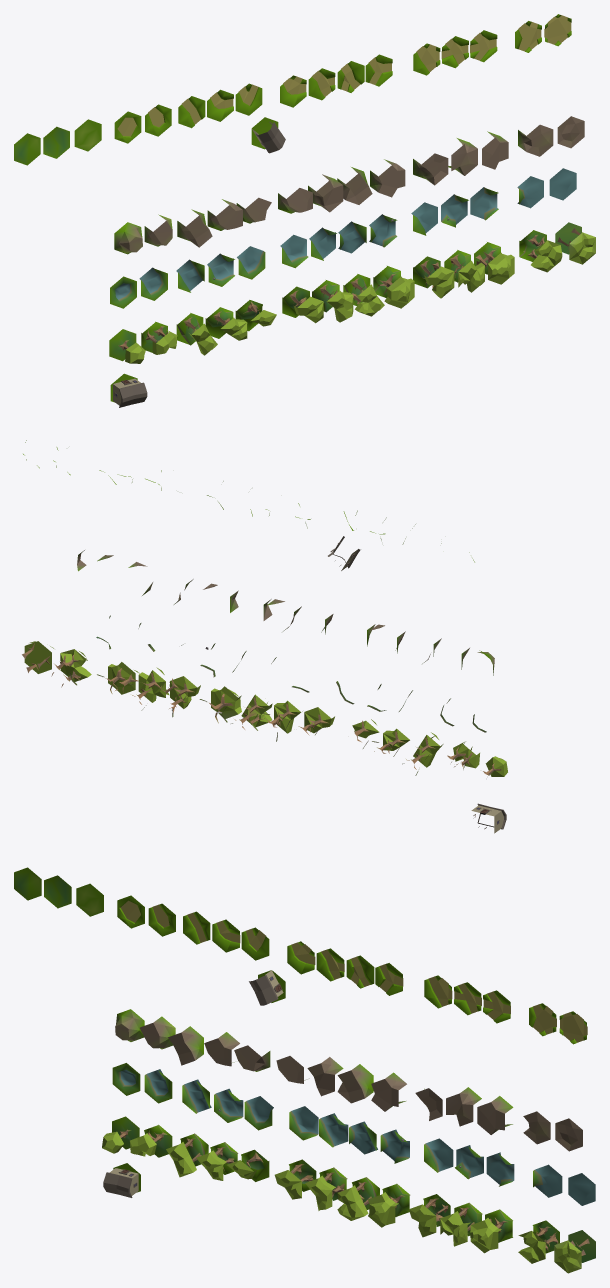
File: Hex.glb
3 views of the same model, one above another, from view 1: azimuth 30°, elevation 25°; view 2: azimuth 150°, elevation 25°; view 3: azimuth 330°, elevation 25° (orthographic). The views are drawn at different scales.
Visible parts, largest first — view 1: Tree_F, Tree_T4, Tree_H, Tree_Q1, Tree_Q3, Tree_T1, Tree_T2, Tree_Q2, Tree_P1, Tree_T3, Tree_P2, House_N (+49 smaller); view 2: Tree_T4, Tree_F, Tree_H, Tree_Q2, Tree_Q3, Tree_Q1, Tree_T3, Tree_T2, Tree_T1, Tree_P1; view 3: Tree_Q3, Tree_H, Tree_T4, Tree_T3, Tree_F, Tree_P1, Tree_Q2, Tree_Q1, Tree_T2, Mount_T3, Tree_E, Tree_T1 (+48 smaller).
Boxes of the visible parts, x1,y1,x2,y2 form: Tree_F: (519, 230, 562, 272); Tree_T4: (373, 266, 414, 308); Tree_H: (555, 222, 595, 264); Tree_Q1: (413, 256, 454, 298); Tree_Q3: (474, 242, 514, 284); Tree_T1: (282, 286, 323, 323); Tree_T2: (312, 280, 353, 322); Tree_Q2: (444, 250, 484, 292); Tree_P1: (176, 313, 217, 355); Tree_T3: (343, 274, 384, 316); Tree_P2: (205, 307, 247, 340); House_N: (110, 373, 147, 407); Tree_T4: (199, 686, 241, 723); Tree_F: (51, 649, 91, 687); Tree_H: (22, 641, 53, 673); Tree_Q2: (127, 667, 169, 710); Tree_Q3: (97, 662, 139, 694); Tree_Q1: (162, 676, 200, 717); Tree_T3: (231, 694, 272, 730); Tree_T2: (263, 700, 302, 741); Tree_T1: (298, 707, 334, 735); Tree_P1: (402, 732, 443, 775); Tree_Q3: (470, 1209, 512, 1253); Tree_H: (554, 1230, 595, 1273); Tree_T4: (368, 1183, 410, 1227); Tree_T3: (337, 1177, 379, 1220); Tree_F: (518, 1220, 559, 1263); Tree_P1: (166, 1133, 208, 1177); Tree_Q2: (440, 1202, 482, 1246); Tree_Q1: (409, 1194, 450, 1237); Tree_T2: (305, 1167, 347, 1210); Mount_T3: (337, 1064, 373, 1103); Tree_E: (129, 1124, 172, 1157); Tree_T1: (274, 1159, 316, 1199).
Size of the model in its own units: 36.69 by 18.32 by 2.43.
